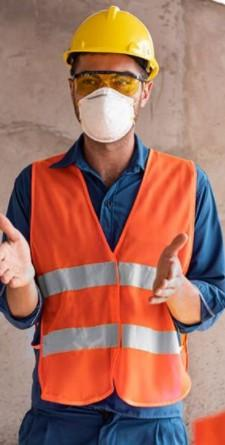hat: (64, 6, 159, 67)
low quality vest: (24, 161, 200, 412)
protective face gear: (70, 60, 149, 143)
